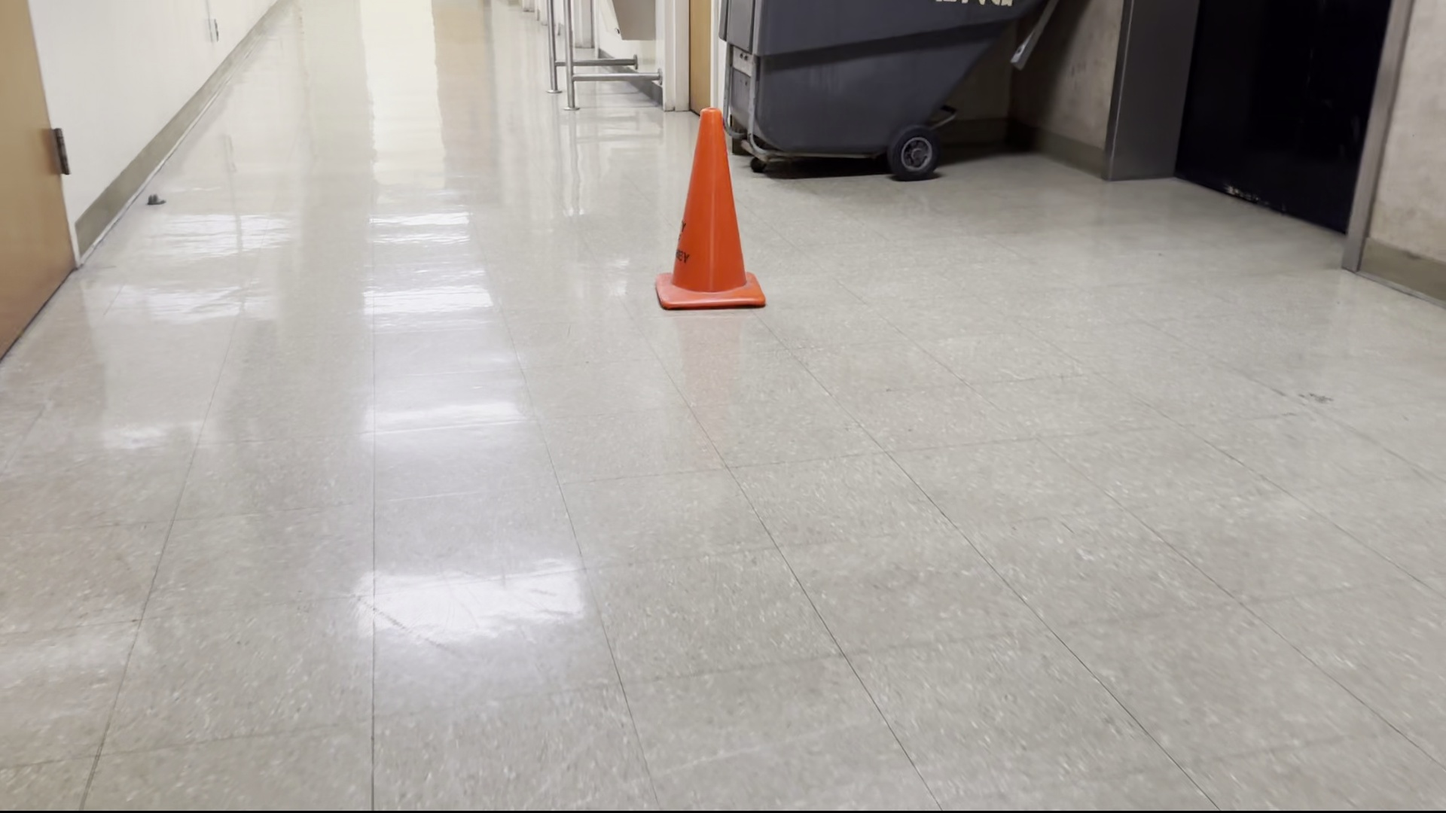traffic_cone: (654, 107, 767, 311)
